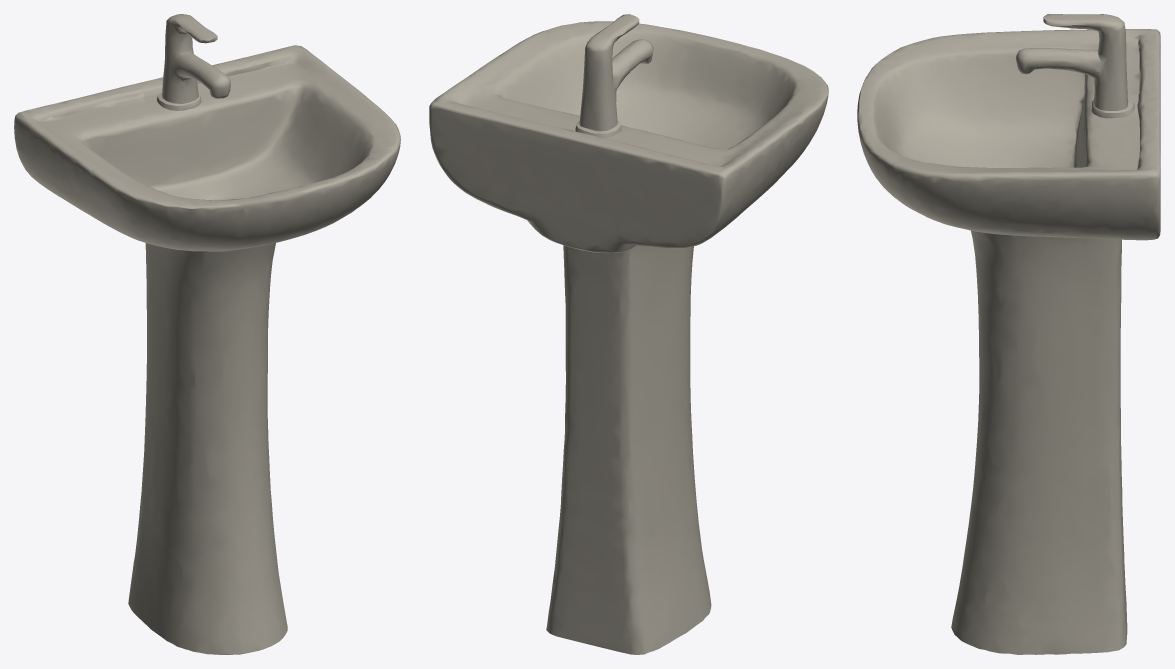
The picture shows the model from 3 angles, left to right: view 1: azimuth 30°, elevation 25°; view 2: azimuth 150°, elevation 25°; view 3: azimuth 270°, elevation 25°; orthographic projection. The views are drawn at different scales.
Visible parts, largest first — view 1: world_0; view 2: world_0; view 3: world_0.
Part boxes in pixels (x1,y1,x2,y2): world_0: (14,14,400,654); world_0: (429,14,828,654); world_0: (857,14,1160,654).
Size of the model in its own units: 0.5203 by 1 by 0.452.
1 material, 1 textured.
